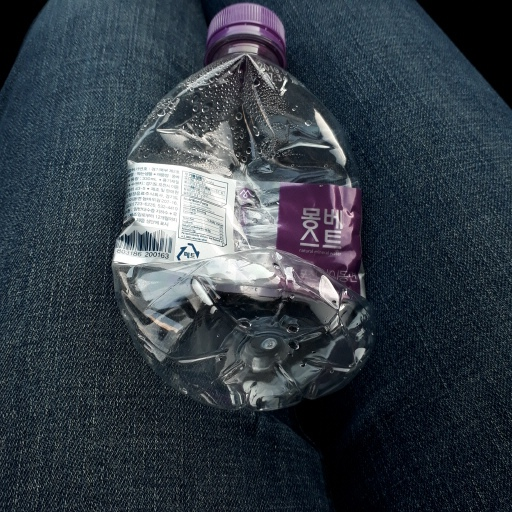Plastic_0: (109, 1, 373, 410)
